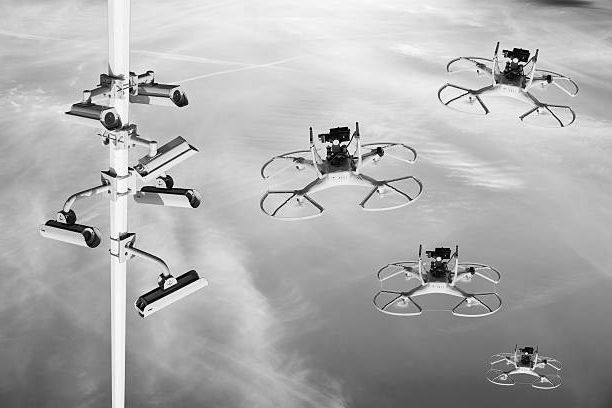Drone: (258, 121, 424, 222), (436, 39, 580, 130), (367, 241, 503, 319), (485, 340, 564, 394)
